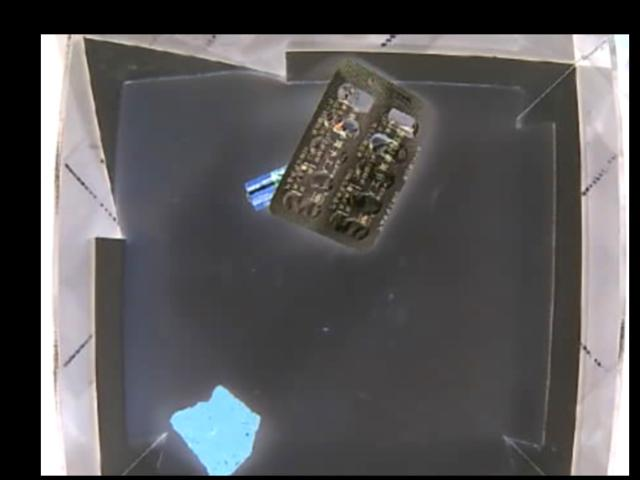Battery: (243, 165, 290, 212)
Brisk: (169, 382, 260, 474)
Medicine: (269, 60, 429, 247)
